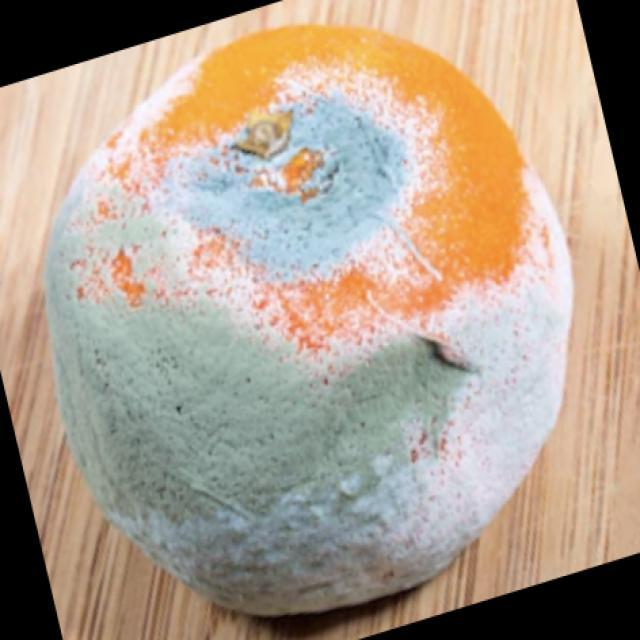sangat-busuk: (47, 26, 571, 615), (46, 161, 572, 615), (160, 94, 414, 270)
